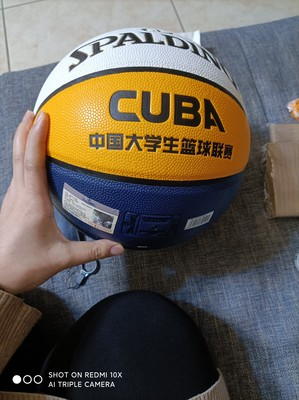ball: (28, 26, 252, 253)
